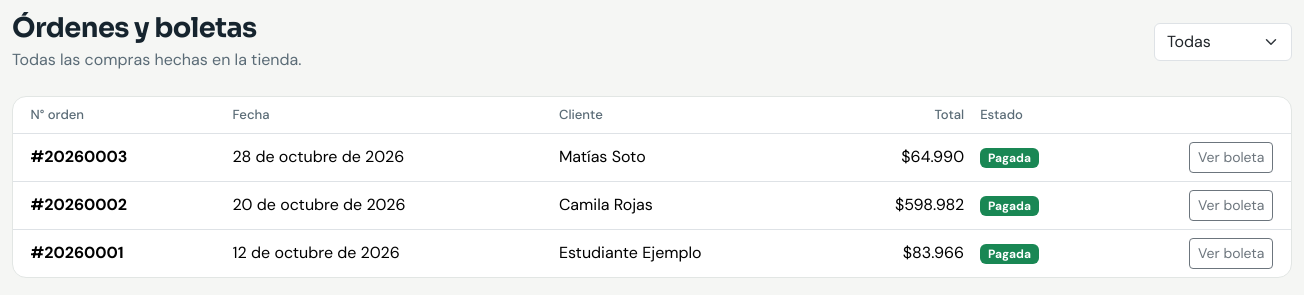
Test: paginas del administrador › Ordenes › si no hay ordenes con ese estado lo avisa
Select "Rechazadas" in the dropdown named "Filtrar por estado": (1223,42) 1154,23 -> 1292,61
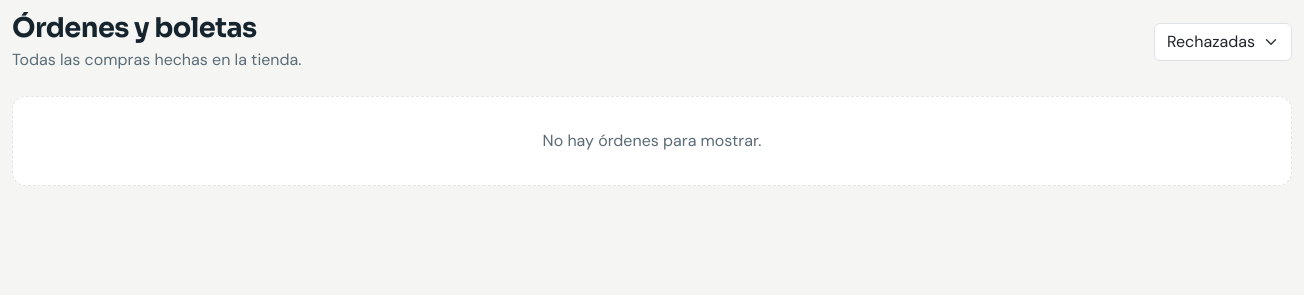
Now the text "No hay órdenes para mostrar." is shown, box 12,96 -> 1292,186
